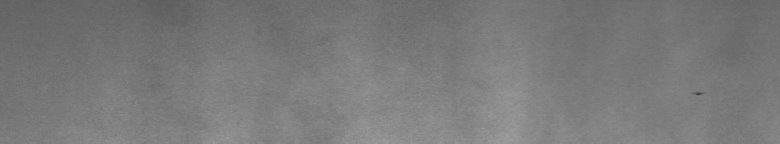fi: (691, 89, 705, 96)
